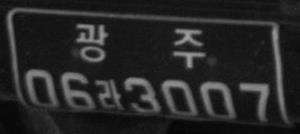0: (23, 67, 60, 109), (200, 80, 237, 120), (163, 78, 200, 117)
3: (125, 75, 162, 115)
6: (61, 70, 95, 111)
7: (238, 79, 271, 124)
광주_D: (73, 20, 208, 71)
라: (96, 77, 124, 112)
